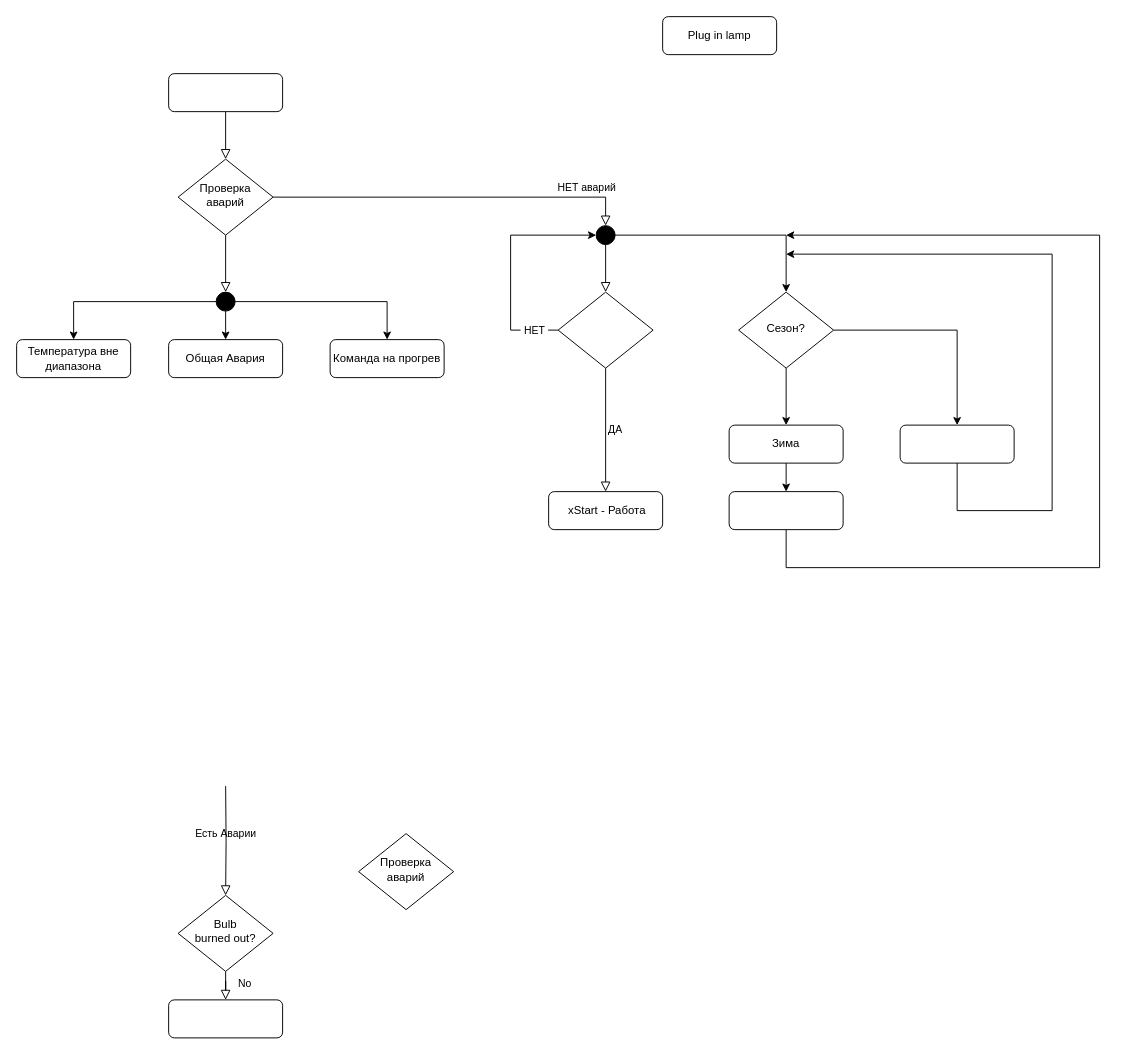
Image size: 1124x1055. Some labels were removed from this diagram. The box of each missing label's shape, as (x1, y1, x2, y2) in pixels:
Repair Lamp: (168, 999, 283, 1038)
Включение насоса: (728, 491, 843, 530)
Лето: (899, 424, 1014, 463)
Проверка разрешения на Старт: (557, 291, 653, 368)
Старт: (168, 73, 283, 112)
